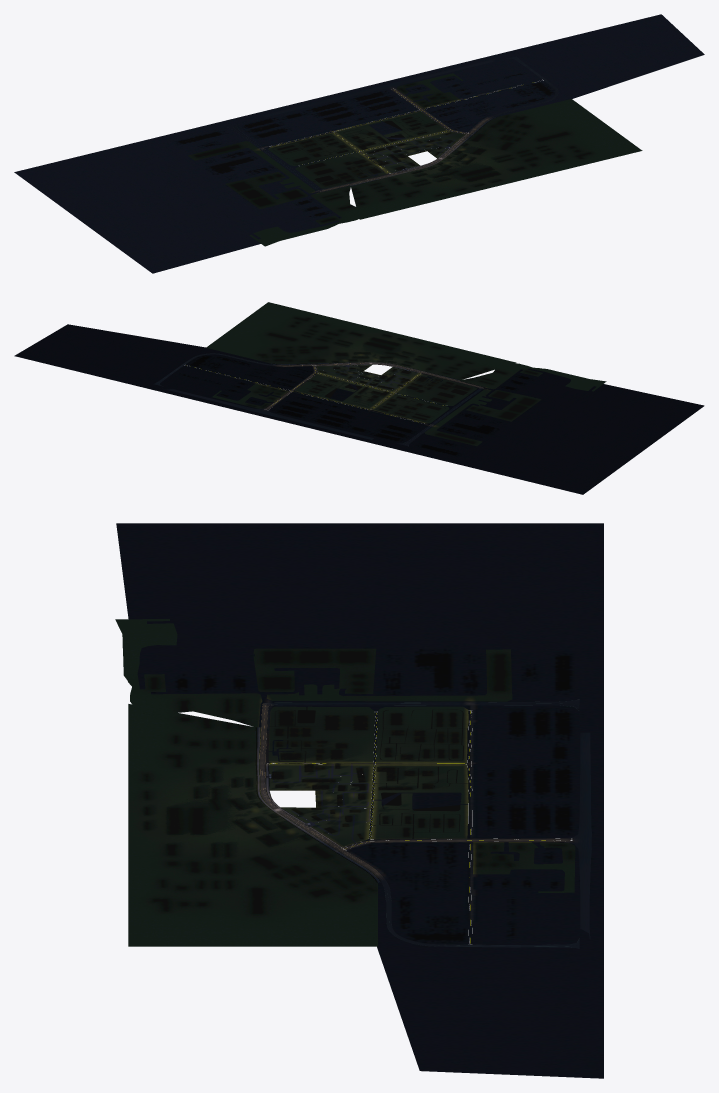
The model's file is WDX.FBX.
The picture shows the model from 3 angles, top to bottom: view 1: azimuth 30°, elevation 25°; view 2: azimuth 150°, elevation 25°; view 3: azimuth 270°, elevation 25°; orthographic projection. The views are drawn at different scales.
Visible parts, largest first — view 1: WDX_27, WDX_26, WDX_29, WDX_00, WDX_16; view 2: WDX_27, WDX_26, WDX_29, WDX_00, WDX_16; view 3: WDX_27, WDX_26, WDX_00, WDX_29, WDX_16.
Boxes of the visible parts, bbox=[...] form: WDX_27: bbox=[14, 14, 704, 273]; WDX_26: bbox=[268, 111, 448, 188]; WDX_29: bbox=[226, 56, 558, 191]; WDX_00: bbox=[361, 131, 465, 173]; WDX_16: bbox=[350, 116, 497, 186]; WDX_27: bbox=[14, 302, 704, 494]; WDX_26: bbox=[294, 373, 477, 423]; WDX_29: bbox=[153, 353, 483, 446]; WDX_00: bbox=[316, 364, 419, 392]; WDX_16: bbox=[271, 362, 460, 381]; WDX_27: bbox=[115, 523, 603, 1078]; WDX_26: bbox=[268, 706, 468, 839]; WDX_00: bbox=[268, 763, 373, 847]; WDX_29: bbox=[259, 699, 591, 948]; WDX_16: bbox=[255, 727, 380, 882].
Size of the model in its own units: 4277 by 1590 by 8.37.
Materials: 8 (6 with a texture image).
